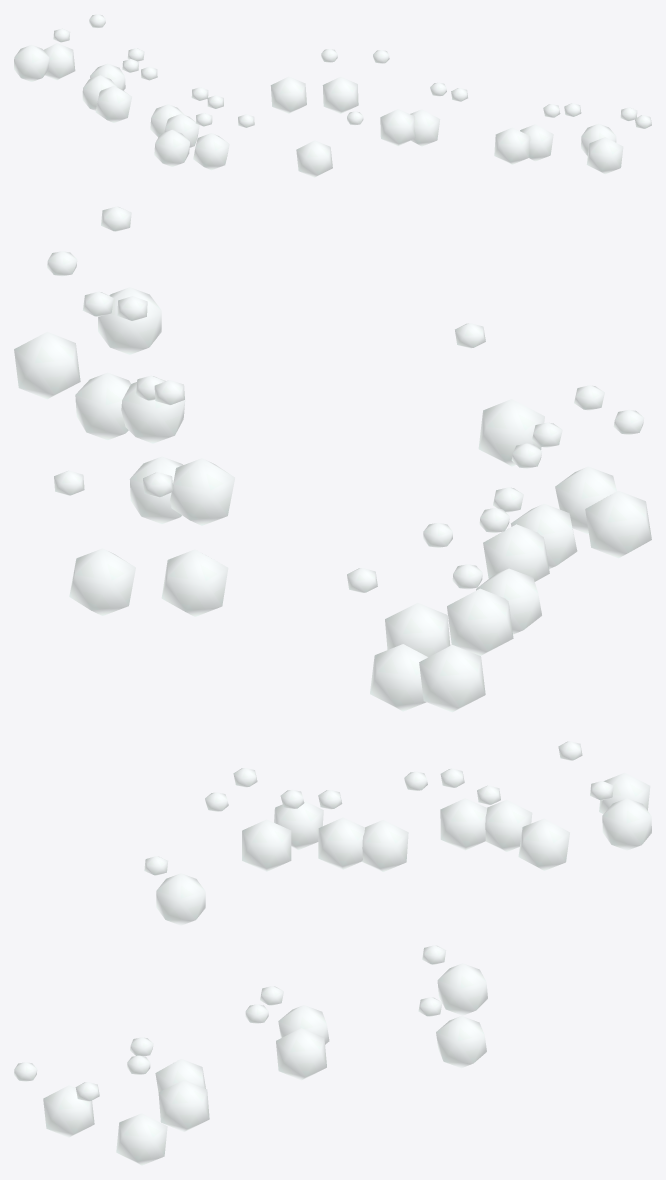
Rendered from model_chunk_10.glb.
3 views of the same model, one above another, from view 1: azimuth 30°, elevation 25°; view 2: azimuth 150°, elevation 25°; view 3: azimuth 270°, elevation 25° (orthographic). The views are drawn at different scales.
Visible parts, largest first — view 1: SplashParticle01336, SplashParticle01333, SplashParticle01343, SplashParticle01335, SplashParticle01331, SplashParticle01350, SplashParticle01139, SplashParticle01323, SplashParticle01140, SplashParticle01163, SplashParticle01326, SplashParticle01340 (+6 smaller); view 2: SplashParticle01323, SplashParticle01351, SplashParticle01204, SplashParticle01333, SplashParticle01139, SplashParticle01336, SplashParticle01335, SplashParticle01326, SplashParticle01331, SplashParticle01348, SplashParticle01162, SplashParticle01350 (+6 smaller); view 3: SplashParticle01140, SplashParticle01348, SplashParticle01351, SplashParticle01340, SplashParticle01322, SplashParticle01326, SplashParticle01331, SplashParticle01333, SplashParticle01336, SplashParticle01163, SplashParticle01142, SplashParticle01162 (+6 smaller).
Part boxes in pixels (<box>): SplashParticle01336: <box>322,50,389,113</box>; SplashParticle01333: <box>270,49,337,113</box>; SplashParticle01343: <box>494,104,560,164</box>; SplashParticle01335: <box>380,82,446,146</box>; SplashParticle01331: <box>296,111,363,177</box>; SplashParticle01350: <box>586,115,651,174</box>; SplashParticle01139: <box>154,112,212,166</box>; SplashParticle01323: <box>14,28,70,81</box>; SplashParticle01140: <box>193,114,254,170</box>; SplashParticle01163: <box>95,66,157,122</box>; SplashParticle01326: <box>43,14,105,80</box>; SplashParticle01340: <box>410,88,467,146</box>; SplashParticle01323: <box>419,564,485,712</box>; SplashParticle01351: <box>14,251,80,399</box>; SplashParticle01204: <box>447,508,513,655</box>; SplashParticle01333: <box>143,472,228,616</box>; SplashParticle01139: <box>585,409,651,558</box>; SplashParticle01336: <box>54,470,135,615</box>; SplashParticle01335: <box>154,380,234,525</box>; SplashParticle01326: <box>347,568,427,711</box>; SplashParticle01331: <box>455,323,544,466</box>; SplashParticle01348: <box>75,291,130,440</box>; SplashParticle01162: <box>483,443,549,581</box>; SplashParticle01350: <box>98,206,161,354</box>; SplashParticle01140: <box>205,792,291,871</box>; SplashParticle01348: <box>127,1055,209,1131</box>; SplashParticle01351: <box>75,1082,167,1165</box>; SplashParticle01340: <box>245,1004,326,1080</box>; SplashParticle01322: <box>477,785,569,870</box>; SplashParticle01326: <box>590,781,651,850</box>; SplashParticle01331: <box>144,856,205,925</box>; SplashParticle01333: <box>422,945,487,1015</box>; SplashParticle01336: <box>418,997,486,1068</box>; SplashParticle01163: <box>404,771,487,850</box>; SplashParticle01142: <box>280,789,364,869</box>; SplashParticle01162: <box>318,790,408,871</box>.
Bounding box in the file's own units: 0.5406 × 0.1392 × 0.4954.
1 material, 1 textured.
